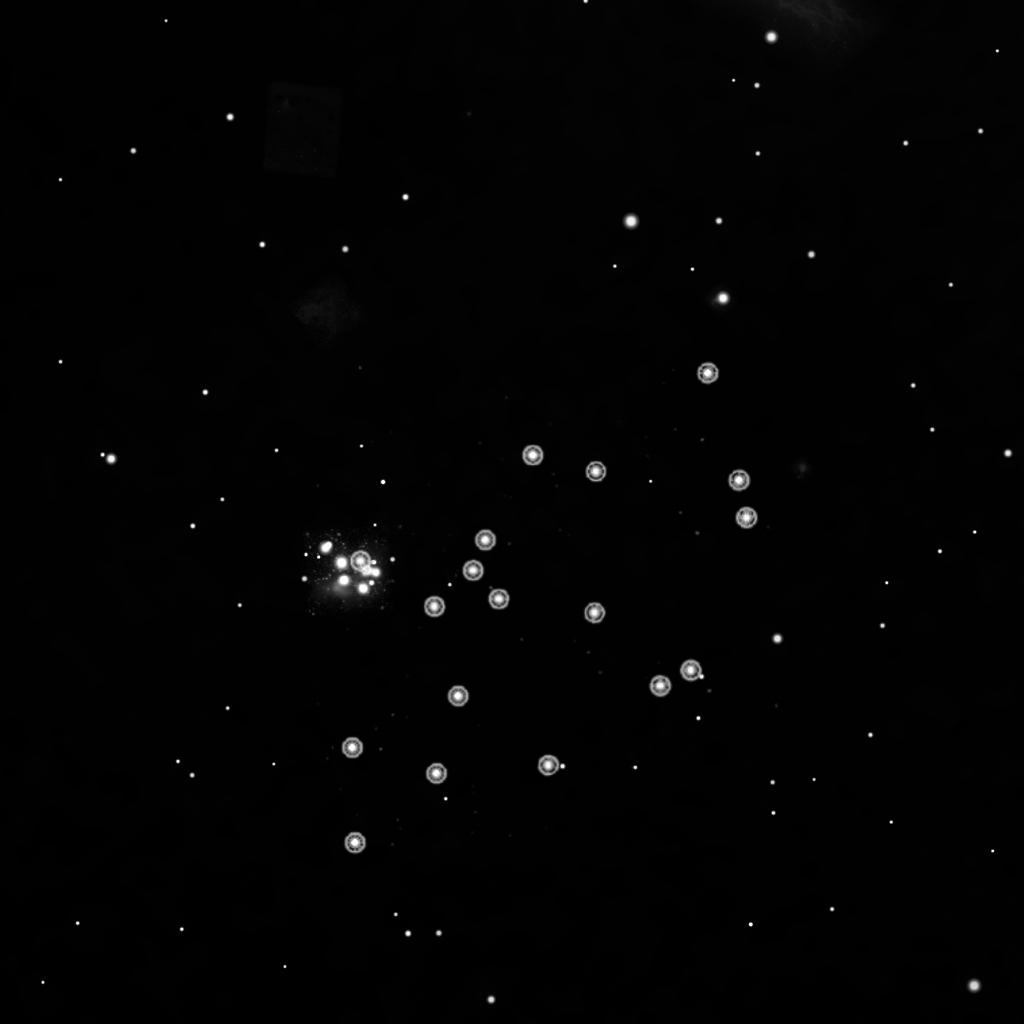canis_major: (417, 437, 607, 624)
